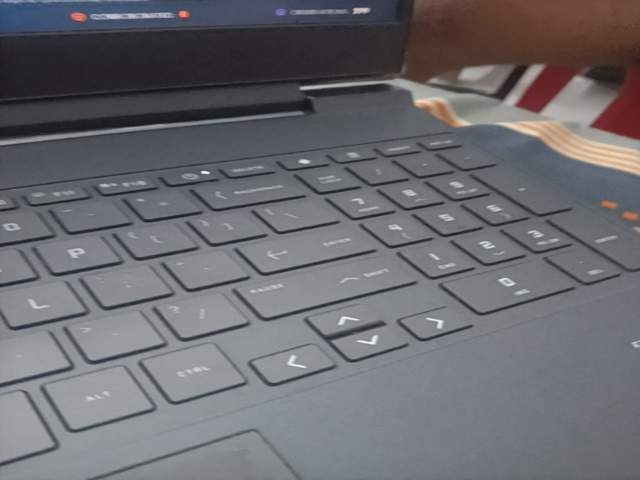pothole: (144, 403, 358, 480), (104, 403, 312, 480), (536, 403, 640, 480)
